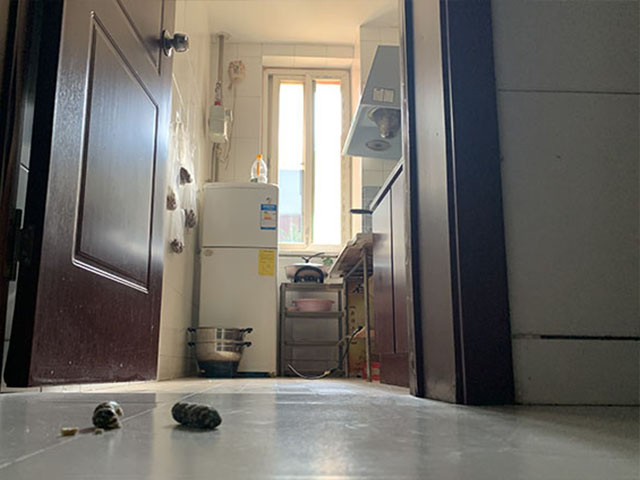cabinet: (368, 156, 409, 389)
feces: (171, 401, 224, 431), (91, 399, 124, 430)
wire: (282, 342, 353, 380)
